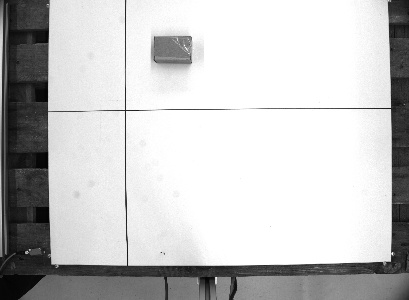b1: (151, 33, 194, 66)
